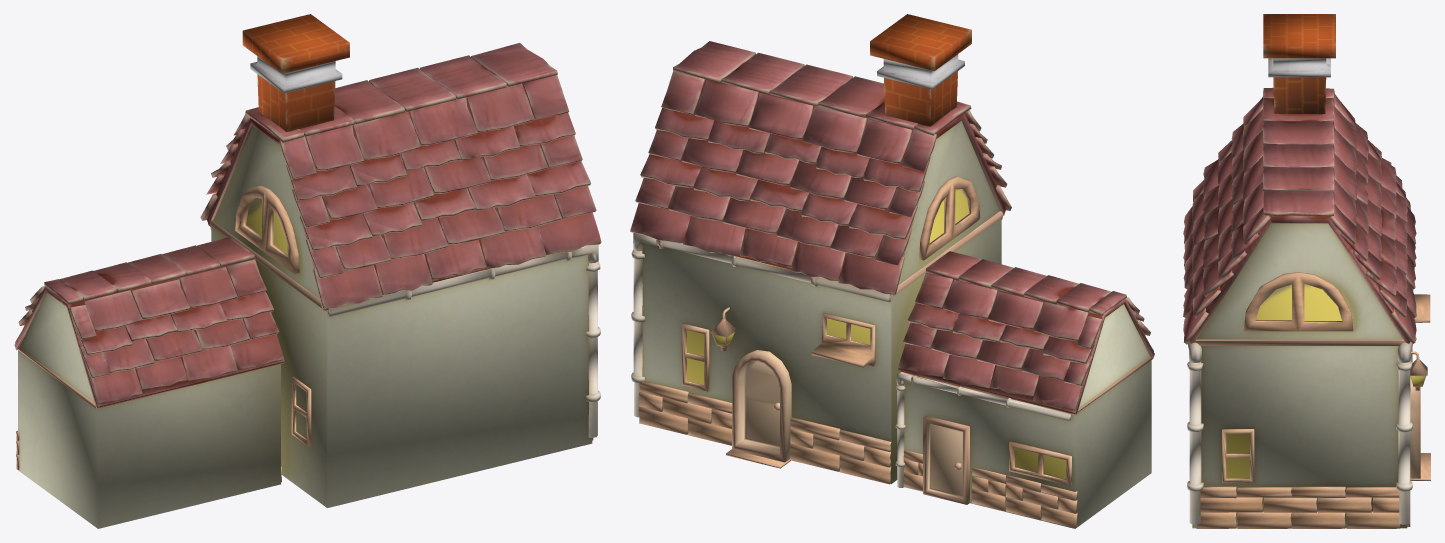
3 renders of one model, left to right at view 1: azimuth 30°, elevation 25°; view 2: azimuth 150°, elevation 25°; view 3: azimuth 270°, elevation 25°, orthographic. The views are drawn at different scales.
Parts seen in each view (by area): view 1: 房子; view 2: 房子; view 3: 房子.
Part boxes in pixels (box(x1,y1,x2,y2)): 房子: box(14, 14, 601, 528); 房子: box(630, 14, 1154, 528); 房子: box(1183, 14, 1430, 528).
Bounding box in the file's own units: 3534 × 3040 × 1745.
